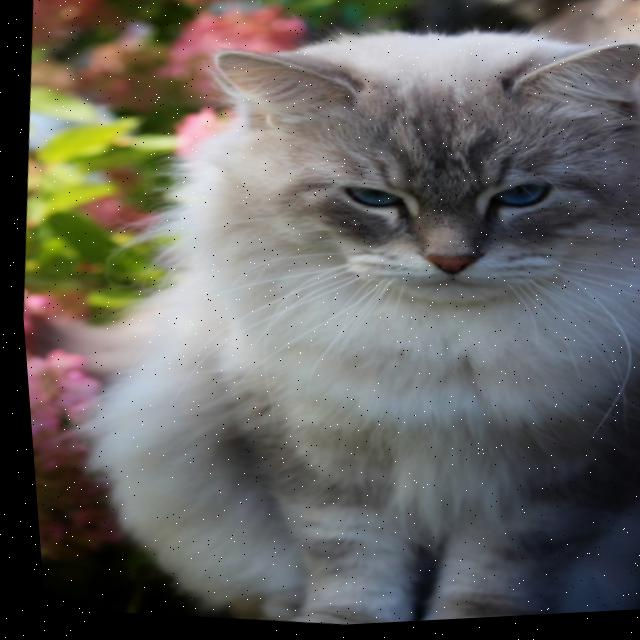Neva Masquerade: (33, 0, 640, 639)
